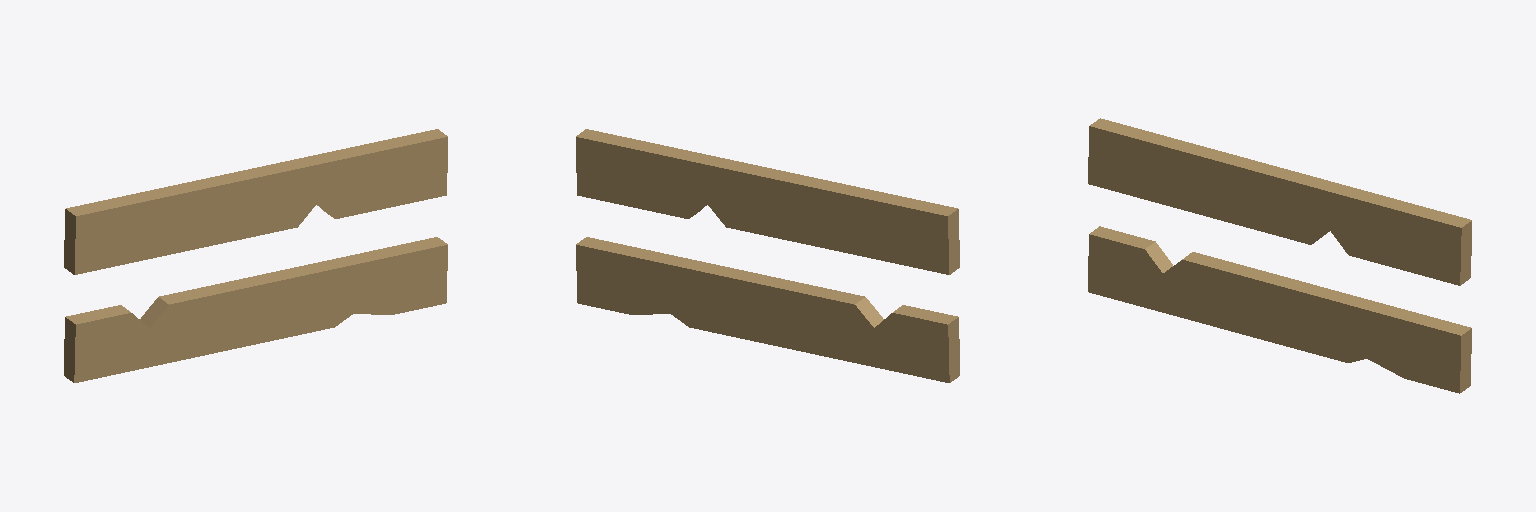
File: Prop_Fence_Boards_4.obj
The picture shows the model from 3 angles: view 1: azimuth 30°, elevation 25°; view 2: azimuth 150°, elevation 25°; view 3: azimuth 330°, elevation 25°; orthographic projection.
Visible parts, largest first — view 1: object1, object2; view 2: object1, object2; view 3: object1, object2.
Boxes of the visible parts, x1,y1,x2,y2 form: object1: [64, 129, 447, 274]; object2: [64, 237, 447, 382]; object1: [576, 129, 959, 274]; object2: [576, 237, 959, 382]; object1: [1088, 118, 1471, 285]; object2: [1088, 226, 1471, 393].
Size of the model in its own units: 1 by 0.4552 by 0.05.